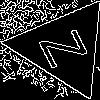Z: (38, 22, 98, 70)
